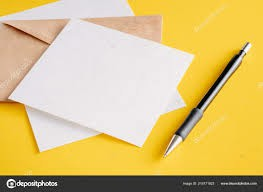pen: (160, 39, 256, 160)
